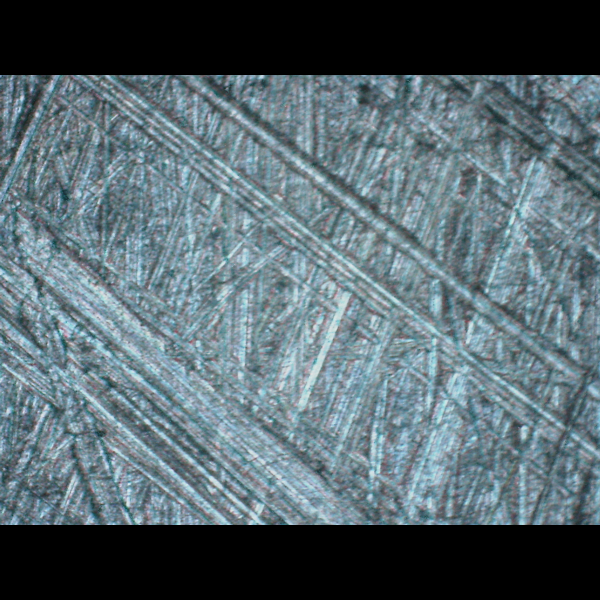d: (2, 74, 599, 523)
